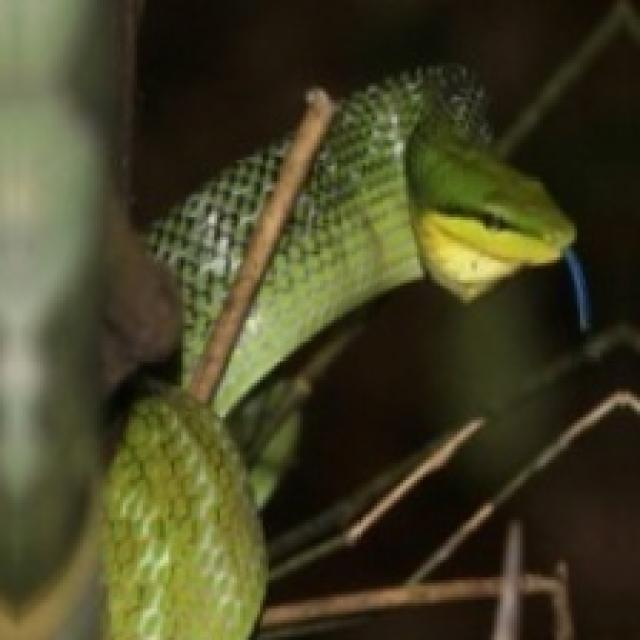red-tailed green ratsnake: (100, 66, 571, 637)
